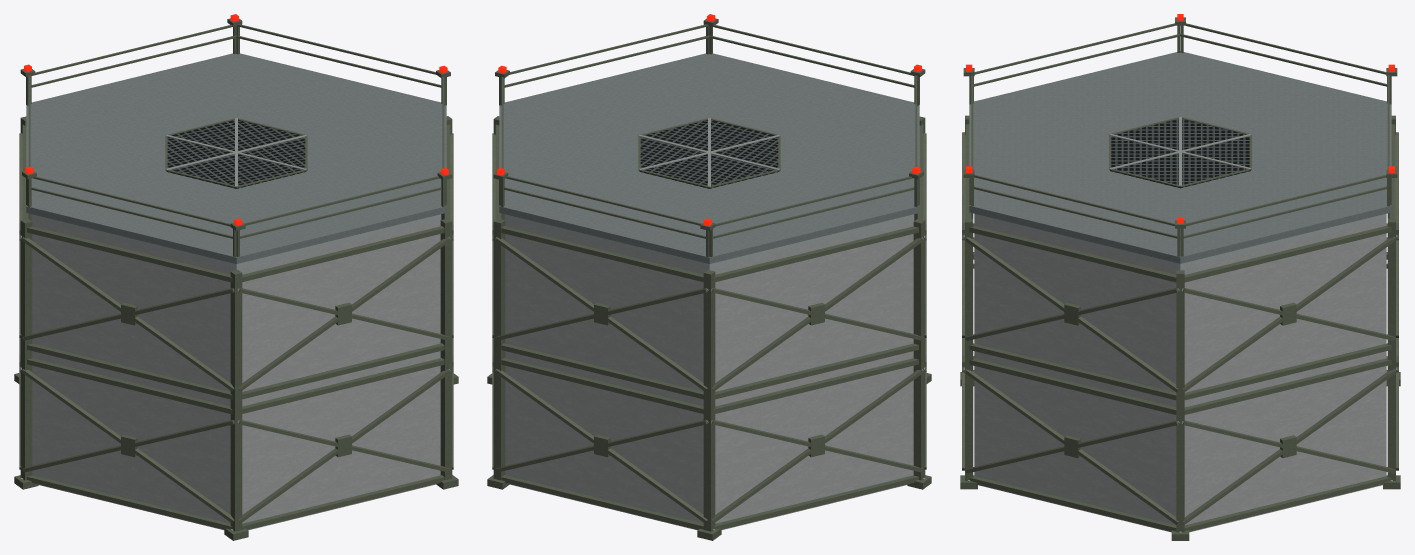
File: pier.glb
3 views of the same model, side by side, from view 1: azimuth 30°, elevation 25°; view 2: azimuth 150°, elevation 25°; view 3: azimuth 270°, elevation 25° (orthographic).
Visible parts, largest first — view 1: pier-lod0-roof0, pier-lod0-floor0, pier-lod0-base0; view 2: pier-lod0-roof0, pier-lod0-floor0, pier-lod0-base0; view 3: pier-lod0-roof0, pier-lod0-floor0, pier-lod0-base0.
Part boxes in pixels (<box>): pier-lod0-roof0: <box>20,14,452,269</box>; pier-lod0-floor0: <box>19,116,453,406</box>; pier-lod0-base0: <box>14,338,458,540</box>; pier-lod0-roof0: <box>493,14,925,269</box>; pier-lod0-floor0: <box>492,116,926,406</box>; pier-lod0-base0: <box>487,338,931,540</box>; pier-lod0-roof0: <box>963,14,1397,269</box>; pier-lod0-floor0: <box>962,115,1398,406</box>; pier-lod0-base0: <box>960,252,1400,540</box>.
Size of what is drawn, in the model's own units: 62.24 by 43.07 by 54.2.
Materials: 7 (7 with a texture image).
